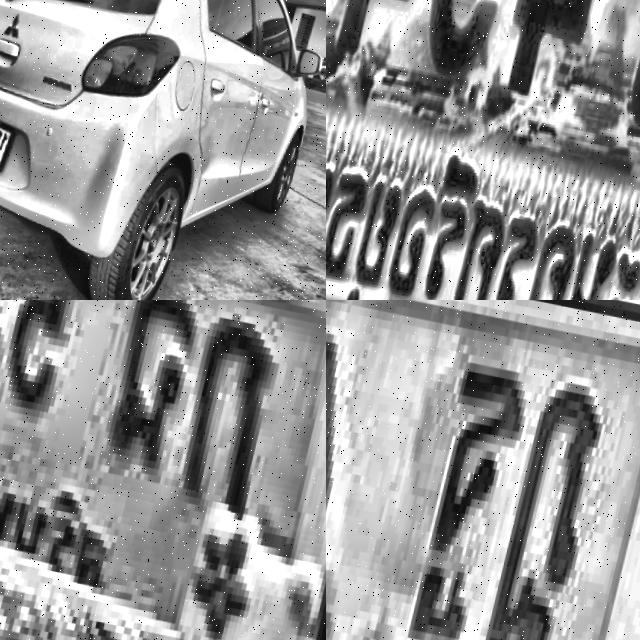license-plate: (0, 300, 326, 640), (326, 300, 640, 640), (326, 0, 640, 300), (0, 99, 29, 175)
